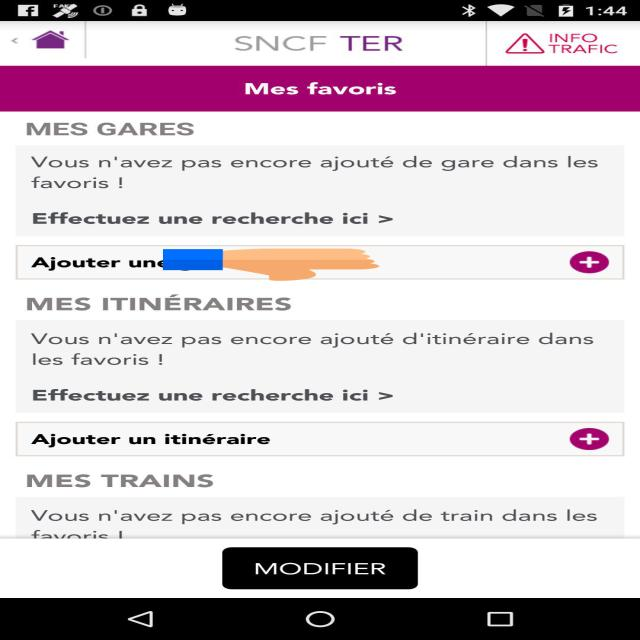obstruction: (163, 248, 379, 282)
